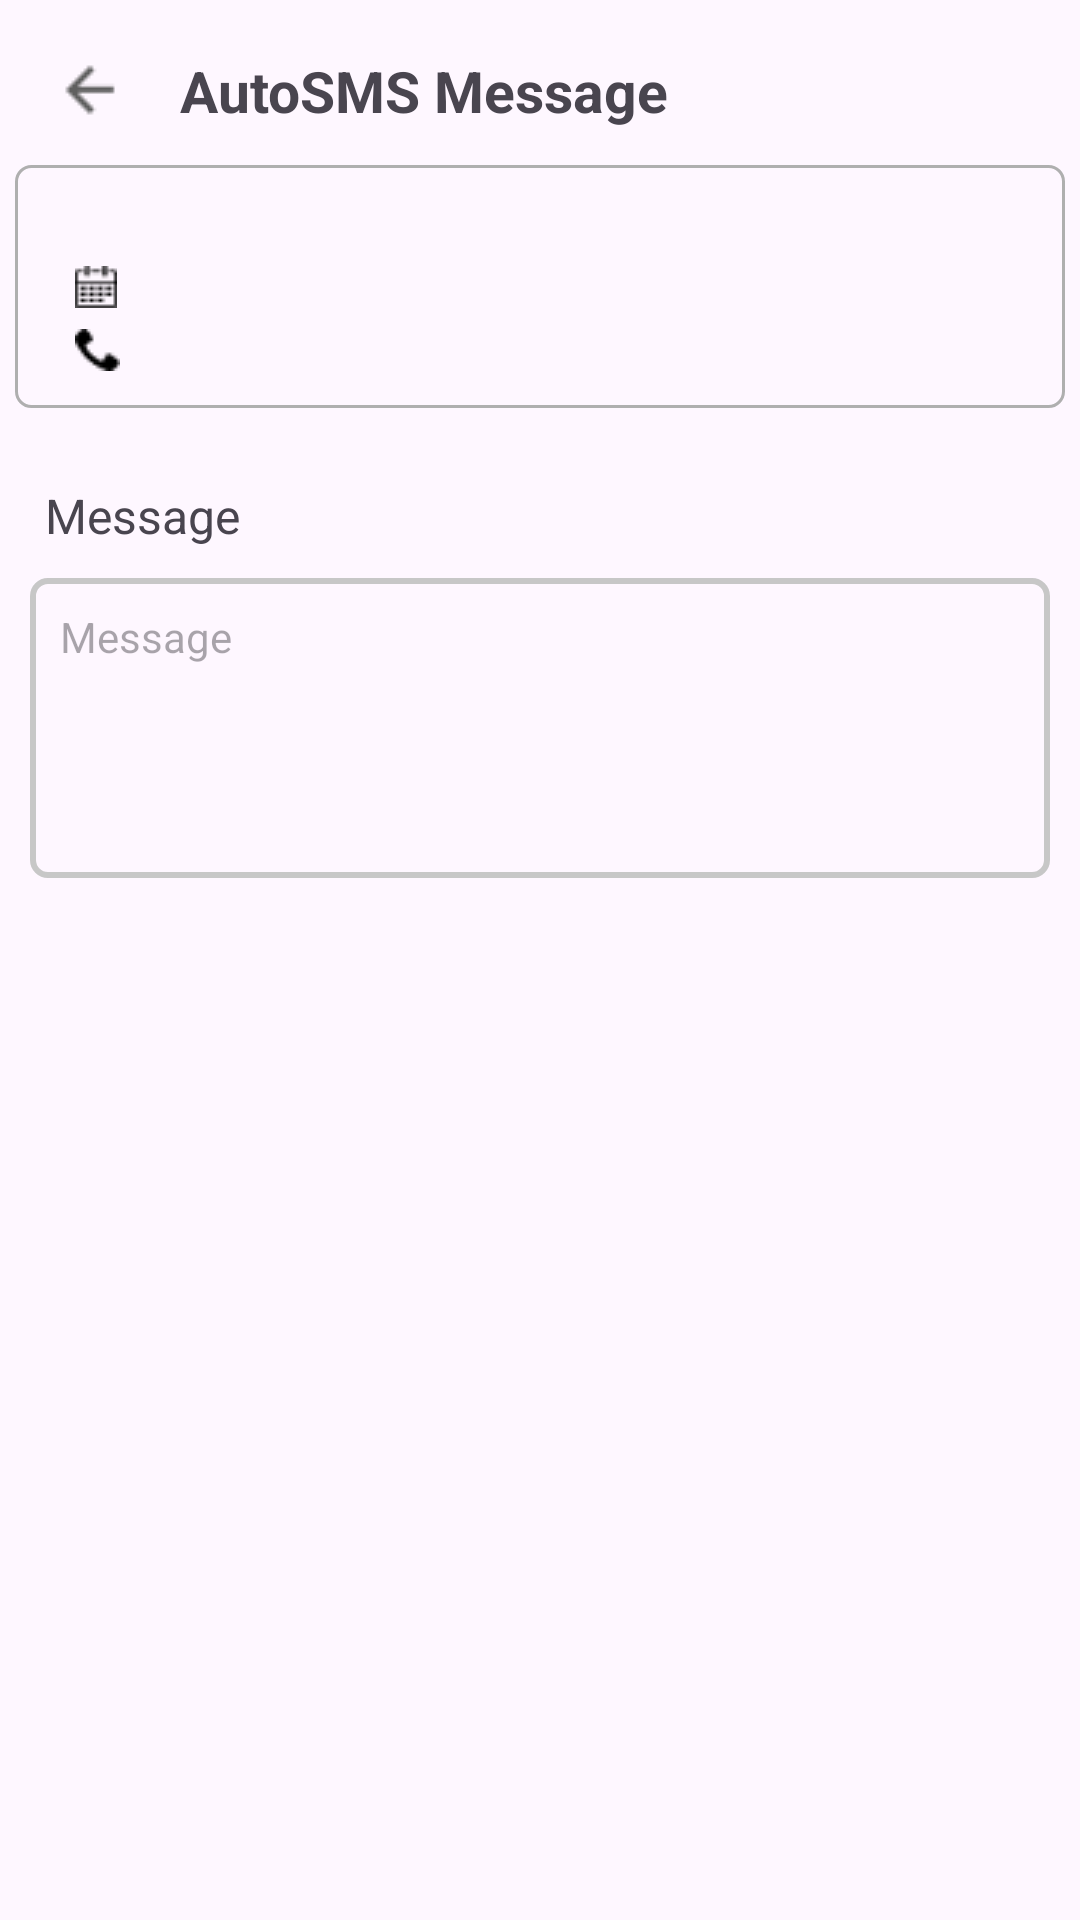

Screen size 1080*1920. Icon name, then its box in pixels as (x1, y1, x2, y2):
arrow left: (65, 65, 115, 115)
calendar: (75, 266, 117, 308)
phones: (75, 329, 120, 371)
